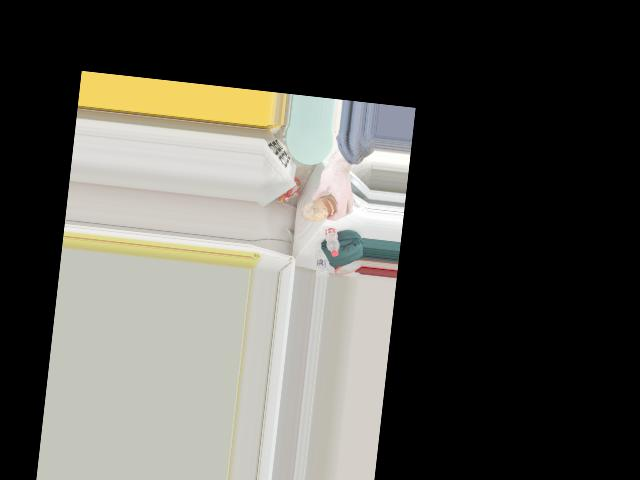sweet_potato: (306, 192, 340, 225)
